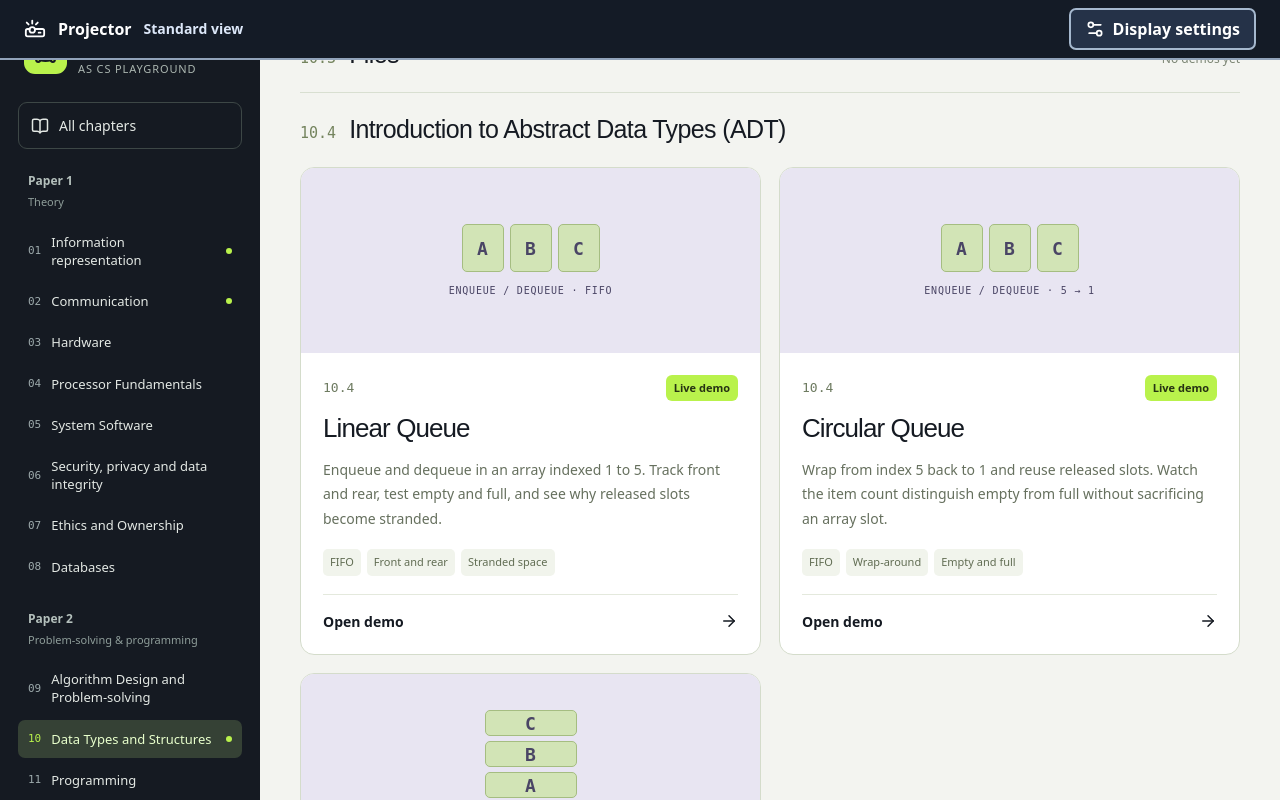
queue and stack teaching pages › launches Circular Queue from section 10.4 with 1-based labels
(page scrolled)
Click the link with aria-label "Open Circular Queue".
click(1010, 411)  # box [779,167,1240,654]
(page scrolled)
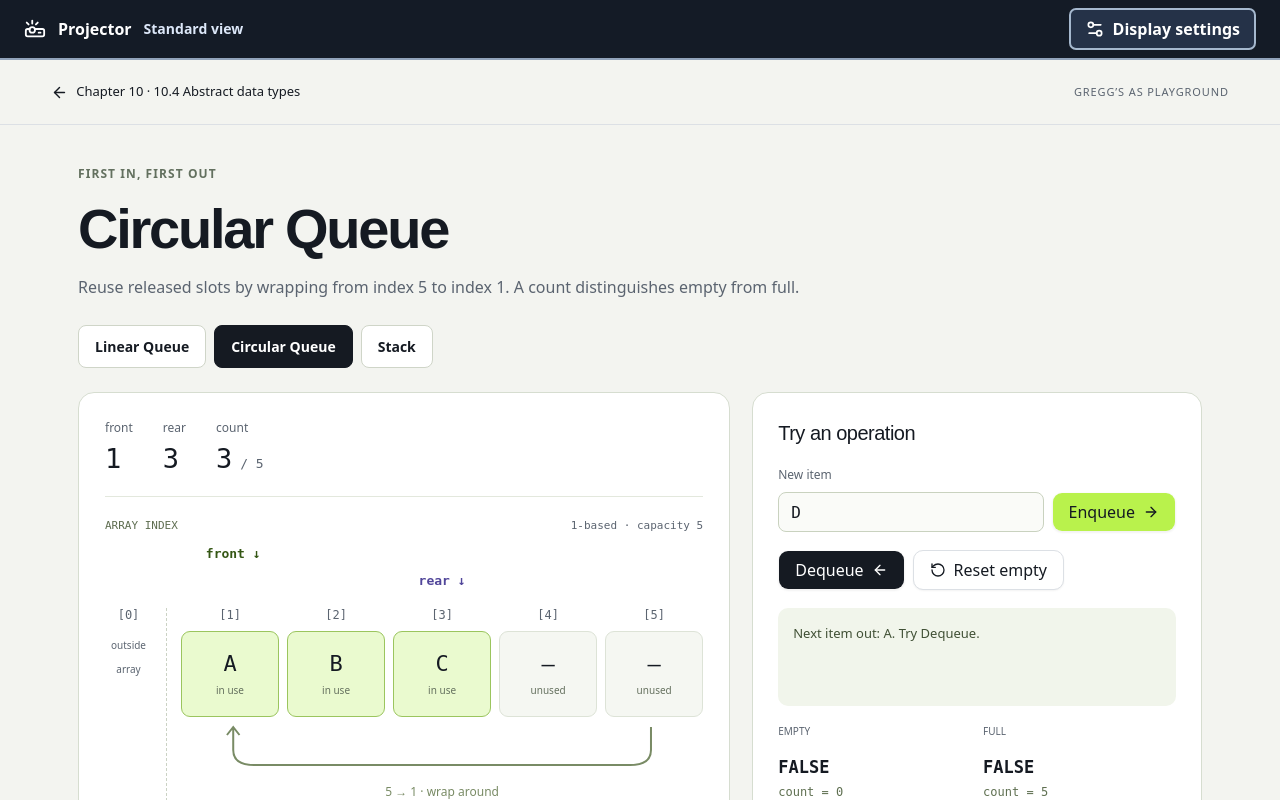
expect the heading "Circular Queue" is shown: met, box [78,197,448,260]
expect the text "[1]" is shown: met, box [219,608,241,622]
expect the text "[0]" is shown: met, box [118,608,139,622]
